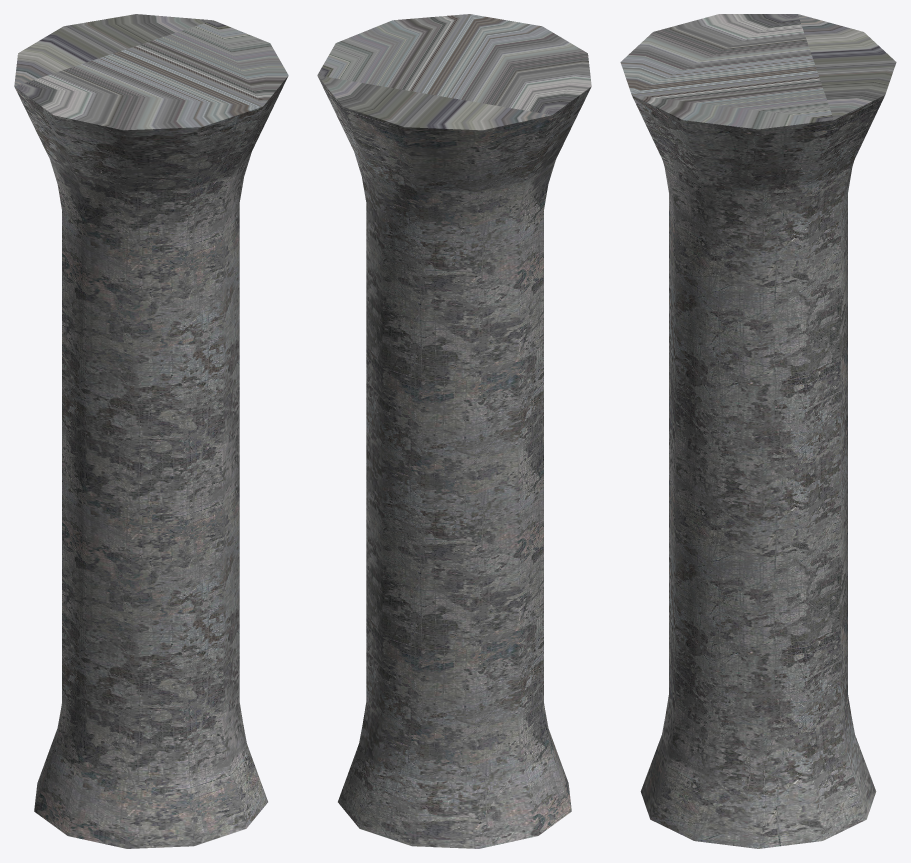
File: Industrial Pillar.FBX
The picture shows the model from 3 angles, left to right: view 1: azimuth 30°, elevation 25°; view 2: azimuth 150°, elevation 25°; view 3: azimuth 270°, elevation 25°; orthographic projection.
Visible parts, largest first — view 1: Industrial Pillar; view 2: Industrial Pillar; view 3: Industrial Pillar.
Part boxes in pixels (x1,y1,x2,y2): Industrial Pillar: (14, 14, 288, 848); Industrial Pillar: (317, 14, 591, 848); Industrial Pillar: (620, 14, 896, 848).
Bounding box in the file's own units: 48.41 × 142 × 48.91.
